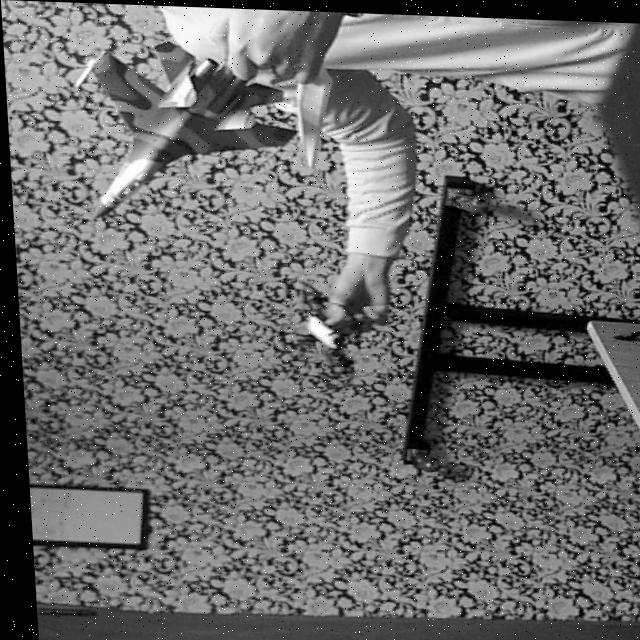drone: (257, 265, 365, 390)
